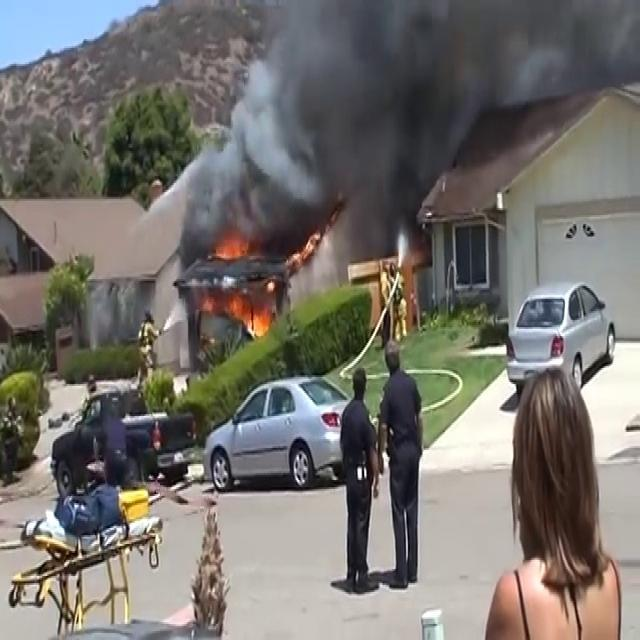Fire: (216, 289, 272, 344), (208, 226, 249, 266)
Smoke: (198, 0, 426, 250), (365, 0, 640, 165)
